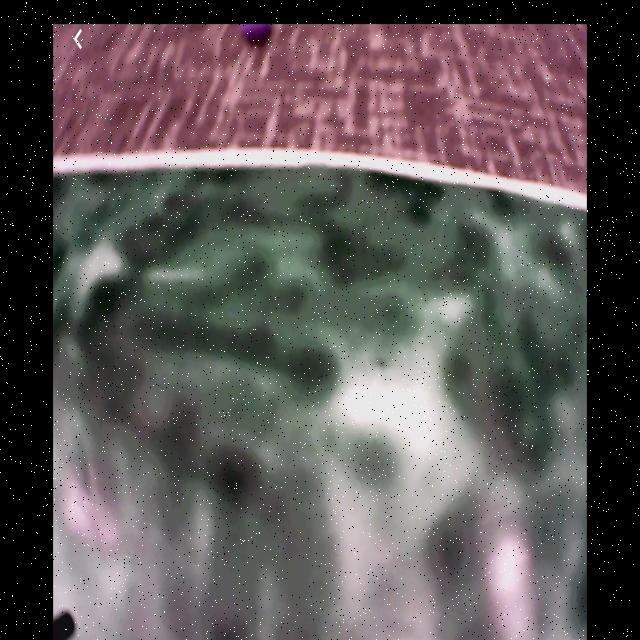ball: (240, 23, 273, 47)
